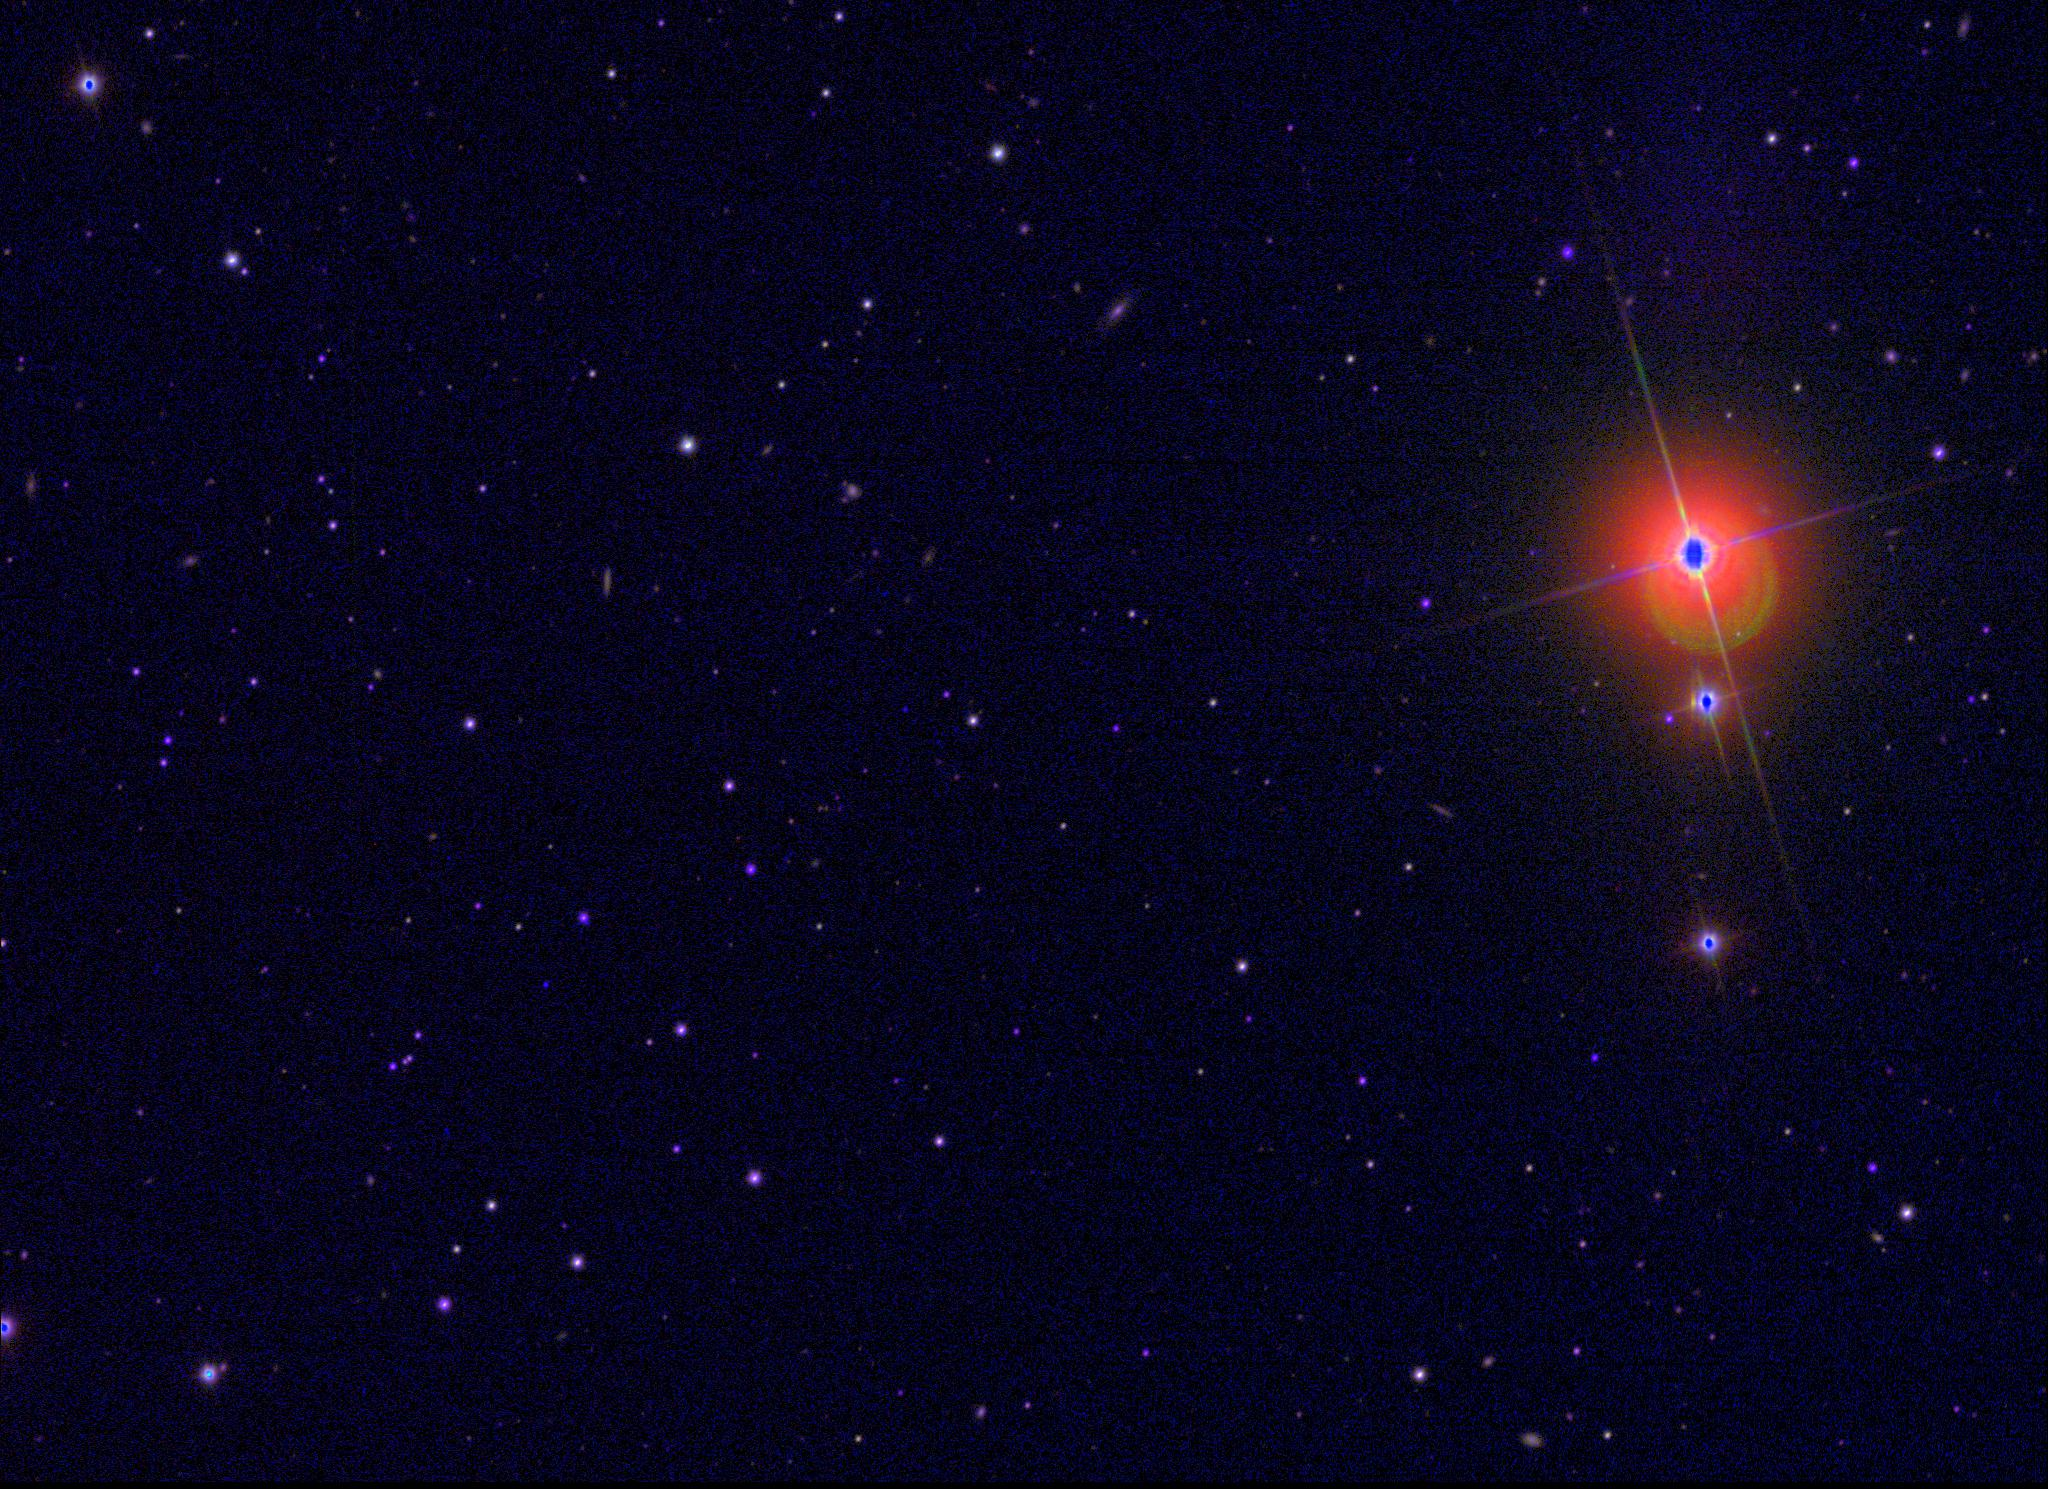L: (541, 978, 553, 993)
